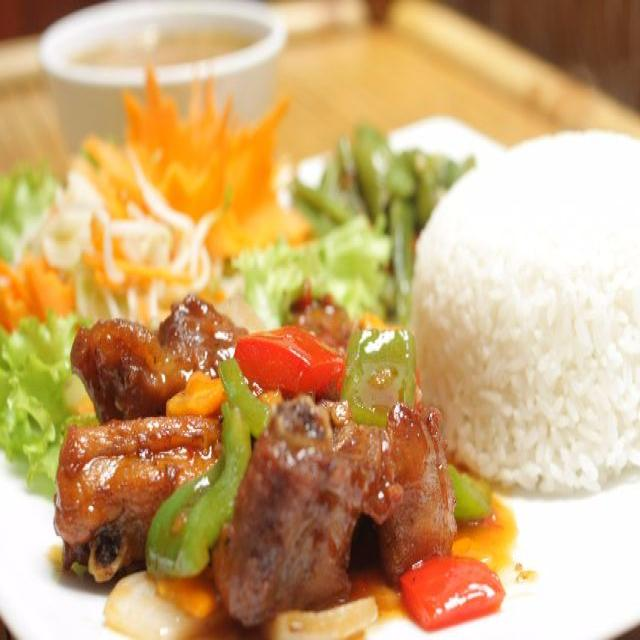com: (412, 133, 639, 494)
suon xao: (54, 298, 455, 625)
